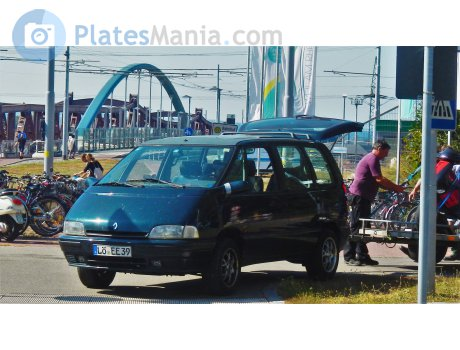License Plates: (90, 243, 131, 254)
